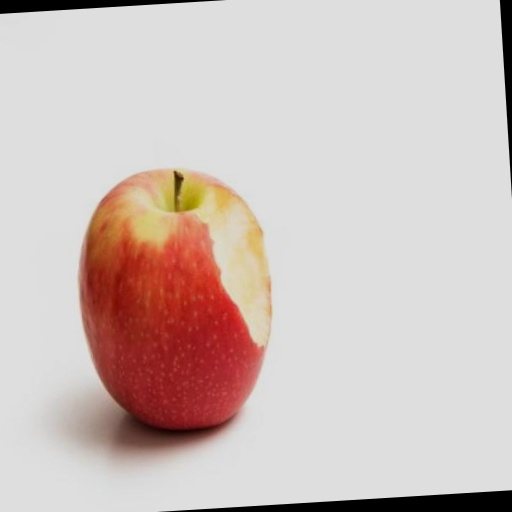fruit: (79, 170, 270, 429)
